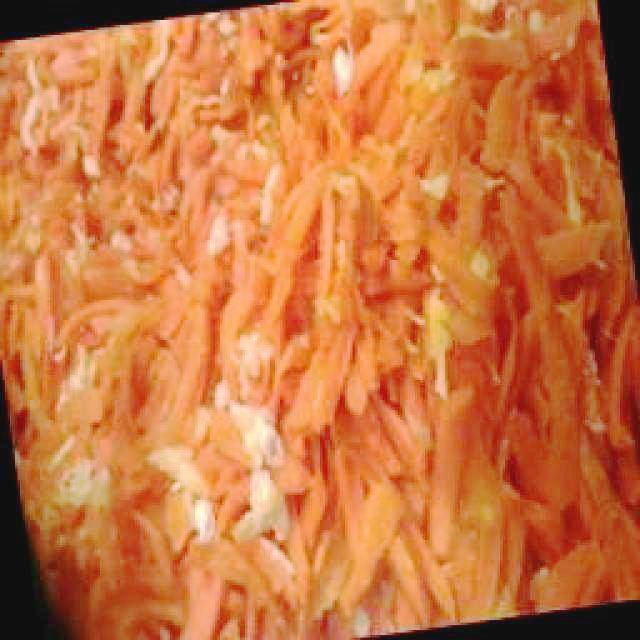carrot_eggs: (2, 3, 636, 636)
